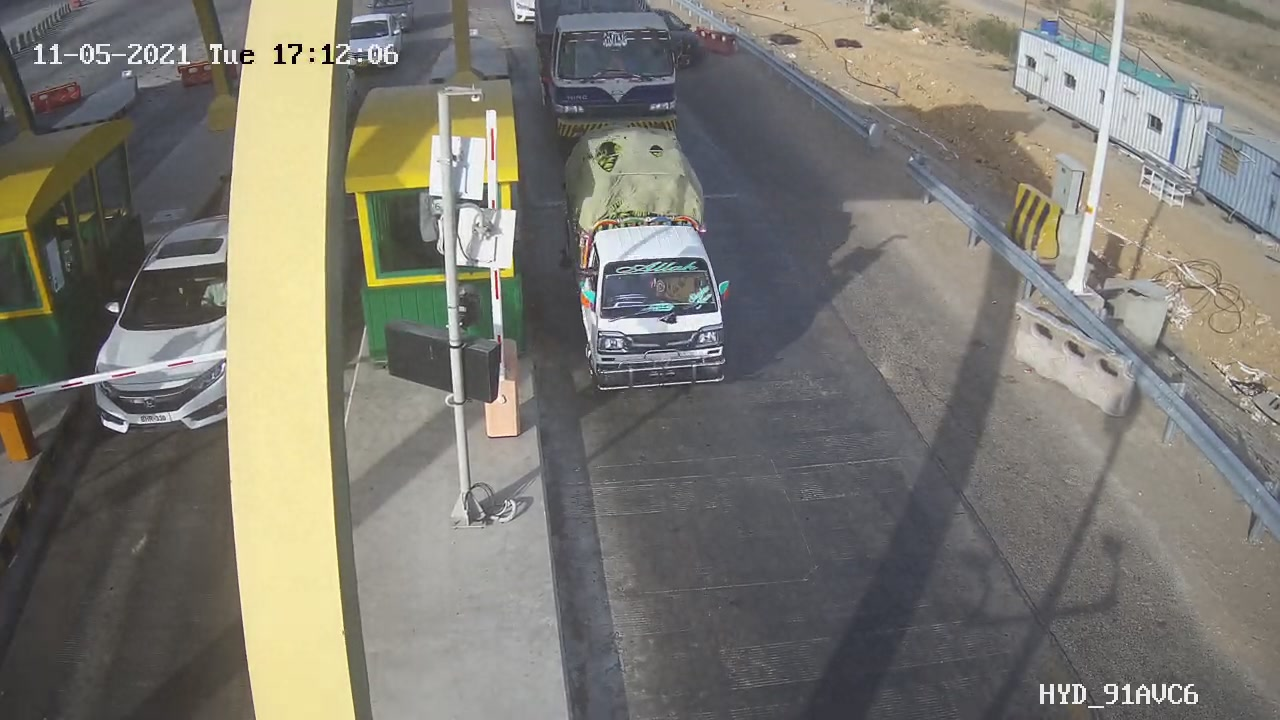F1: (534, 120, 764, 416)
